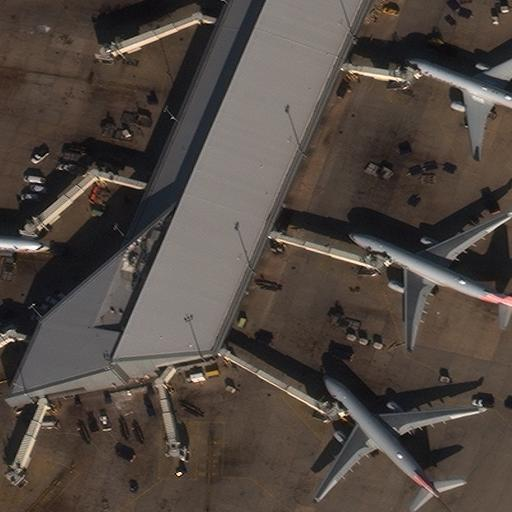Large Civil Transport: (347, 211, 511, 348), (315, 376, 479, 497), (403, 43, 511, 158), (0, 214, 50, 269)
